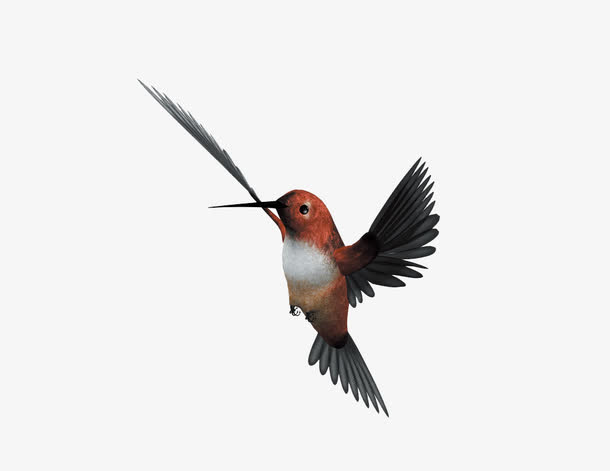bird: (133, 71, 442, 417)
